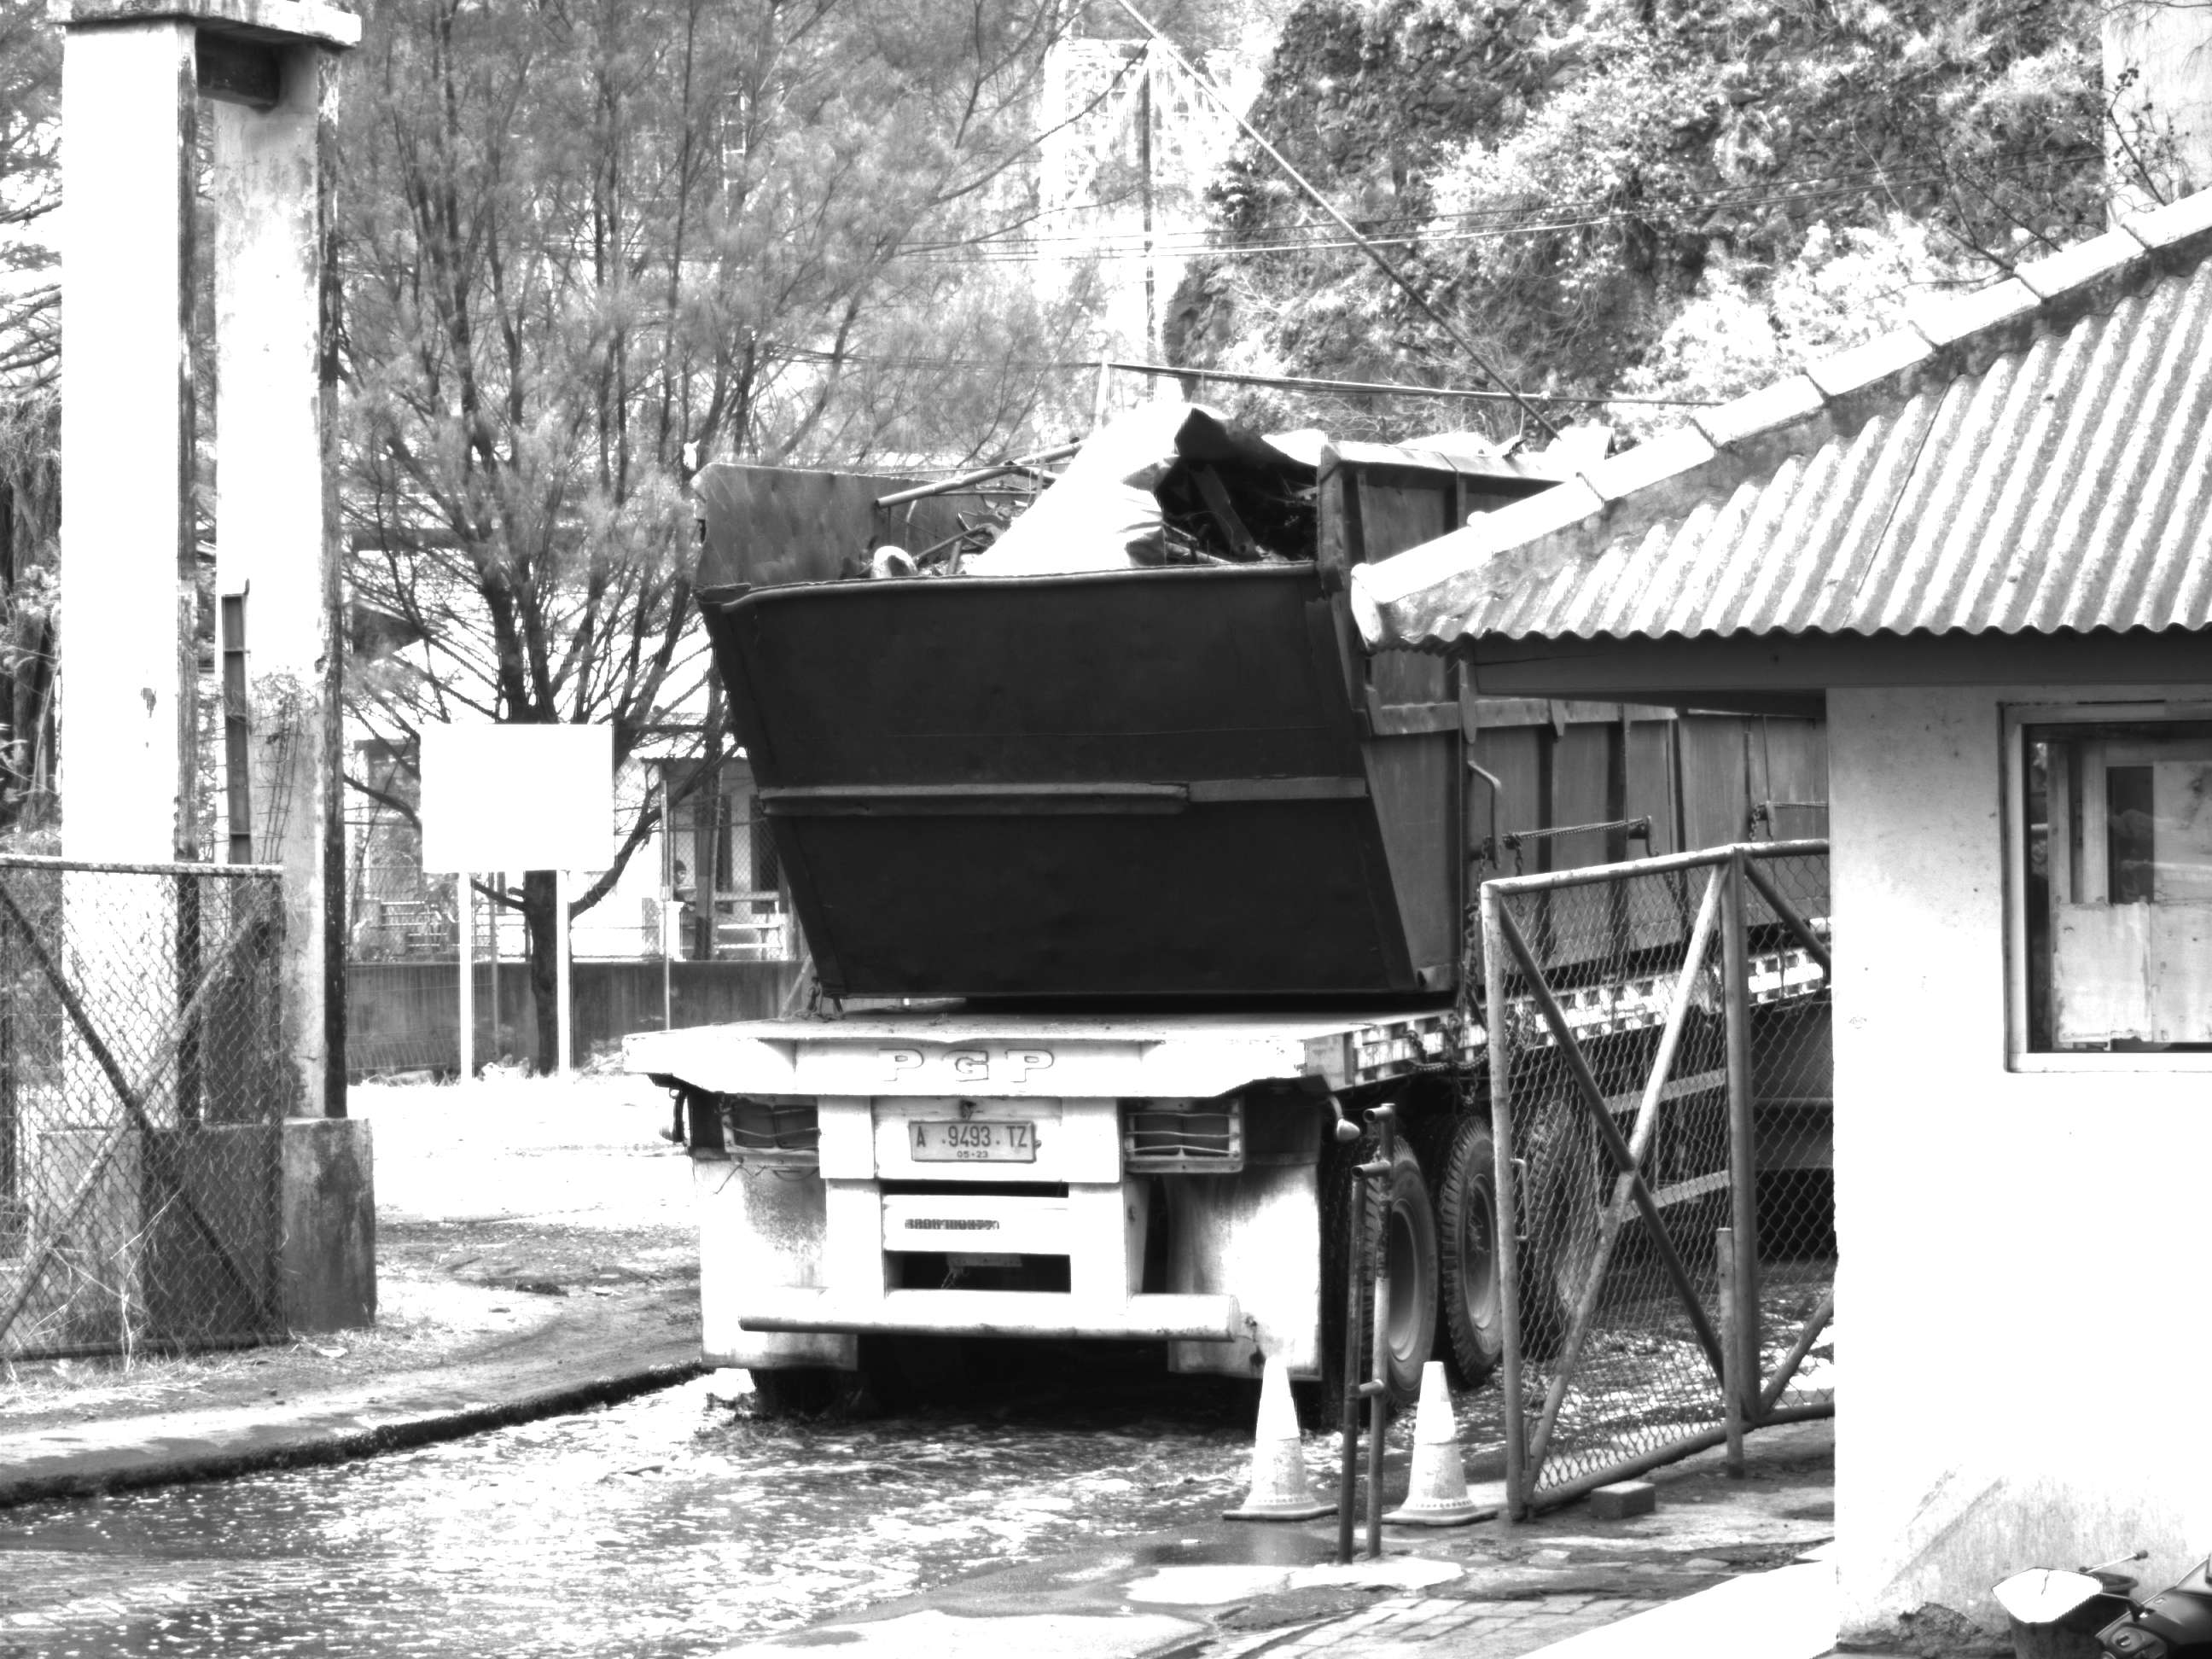day_truck_rear: (614, 1012, 1457, 1431)
plate: (905, 1122, 1039, 1159)
